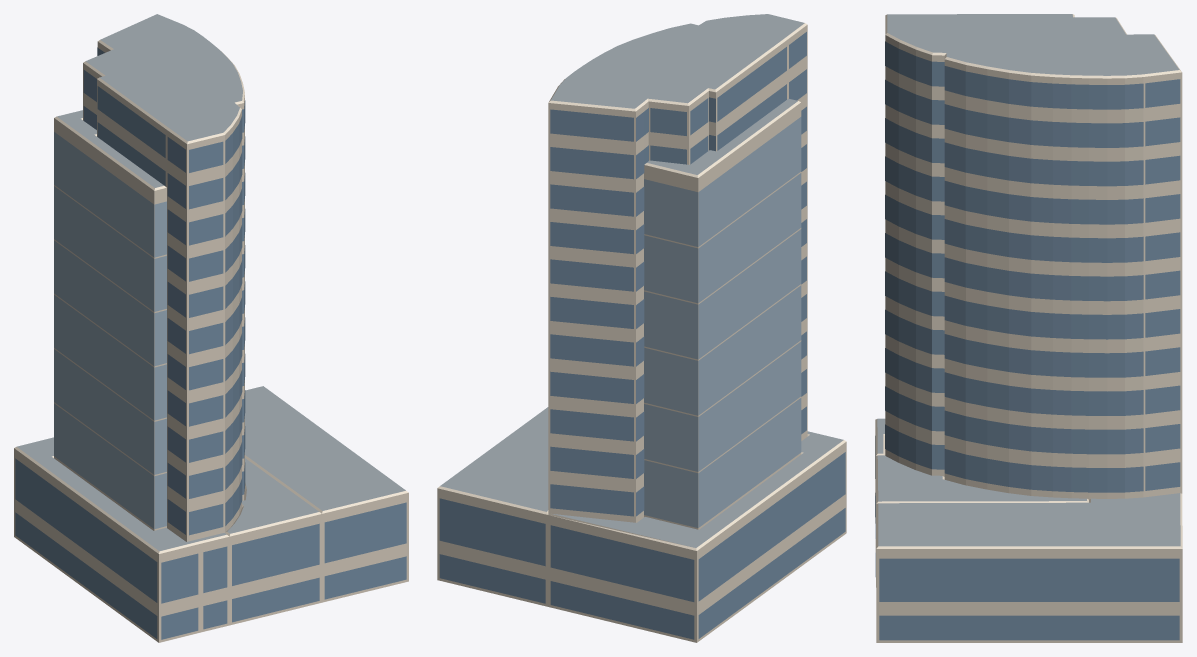
Rendered from pdx-fox-tower.glb.
3 renders of one model, left to right at view 1: azimuth 30°, elevation 25°; view 2: azimuth 150°, elevation 25°; view 3: azimuth 270°, elevation 25°, orthographic. The views are drawn at different scales.
Parts seen in each view (by area): view 1: Fox Tower; view 2: Fox Tower; view 3: Fox Tower.
Part boxes in pixels (x1=…): Fox Tower: x1=14, y1=14, x2=408, y2=642; Fox Tower: x1=437, y1=14, x2=846, y2=642; Fox Tower: x1=875, y1=14, x2=1182, y2=642.
Size of the model in its own units: 60.9 by 113 by 61.19.
